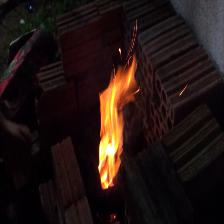fire: (90, 44, 157, 203)
